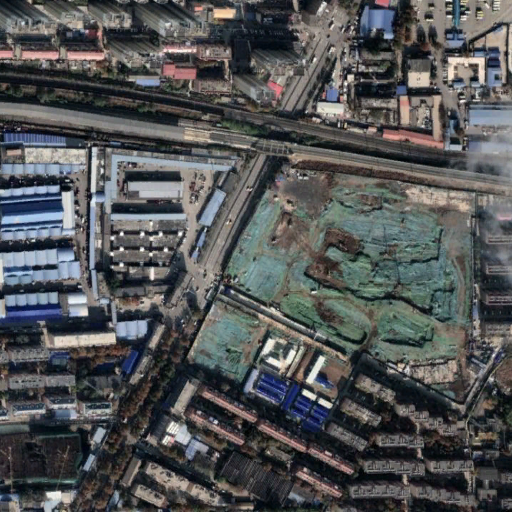cw: (191, 166, 480, 405)
